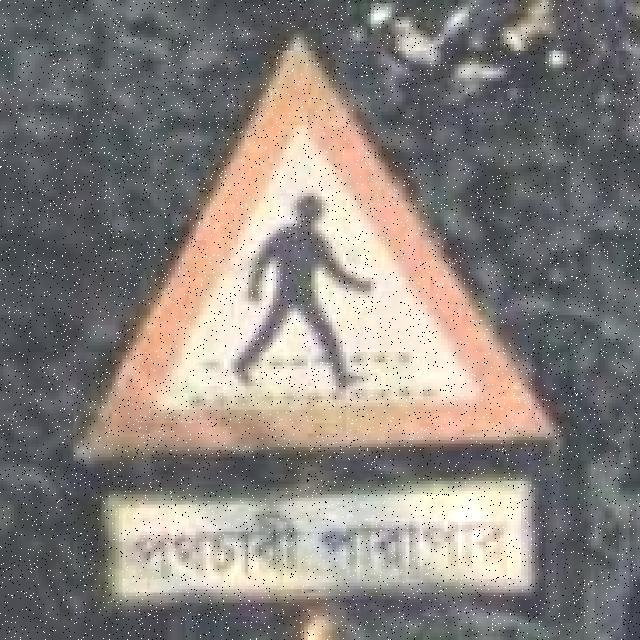Pedestrian-crossing: (73, 35, 558, 625)
